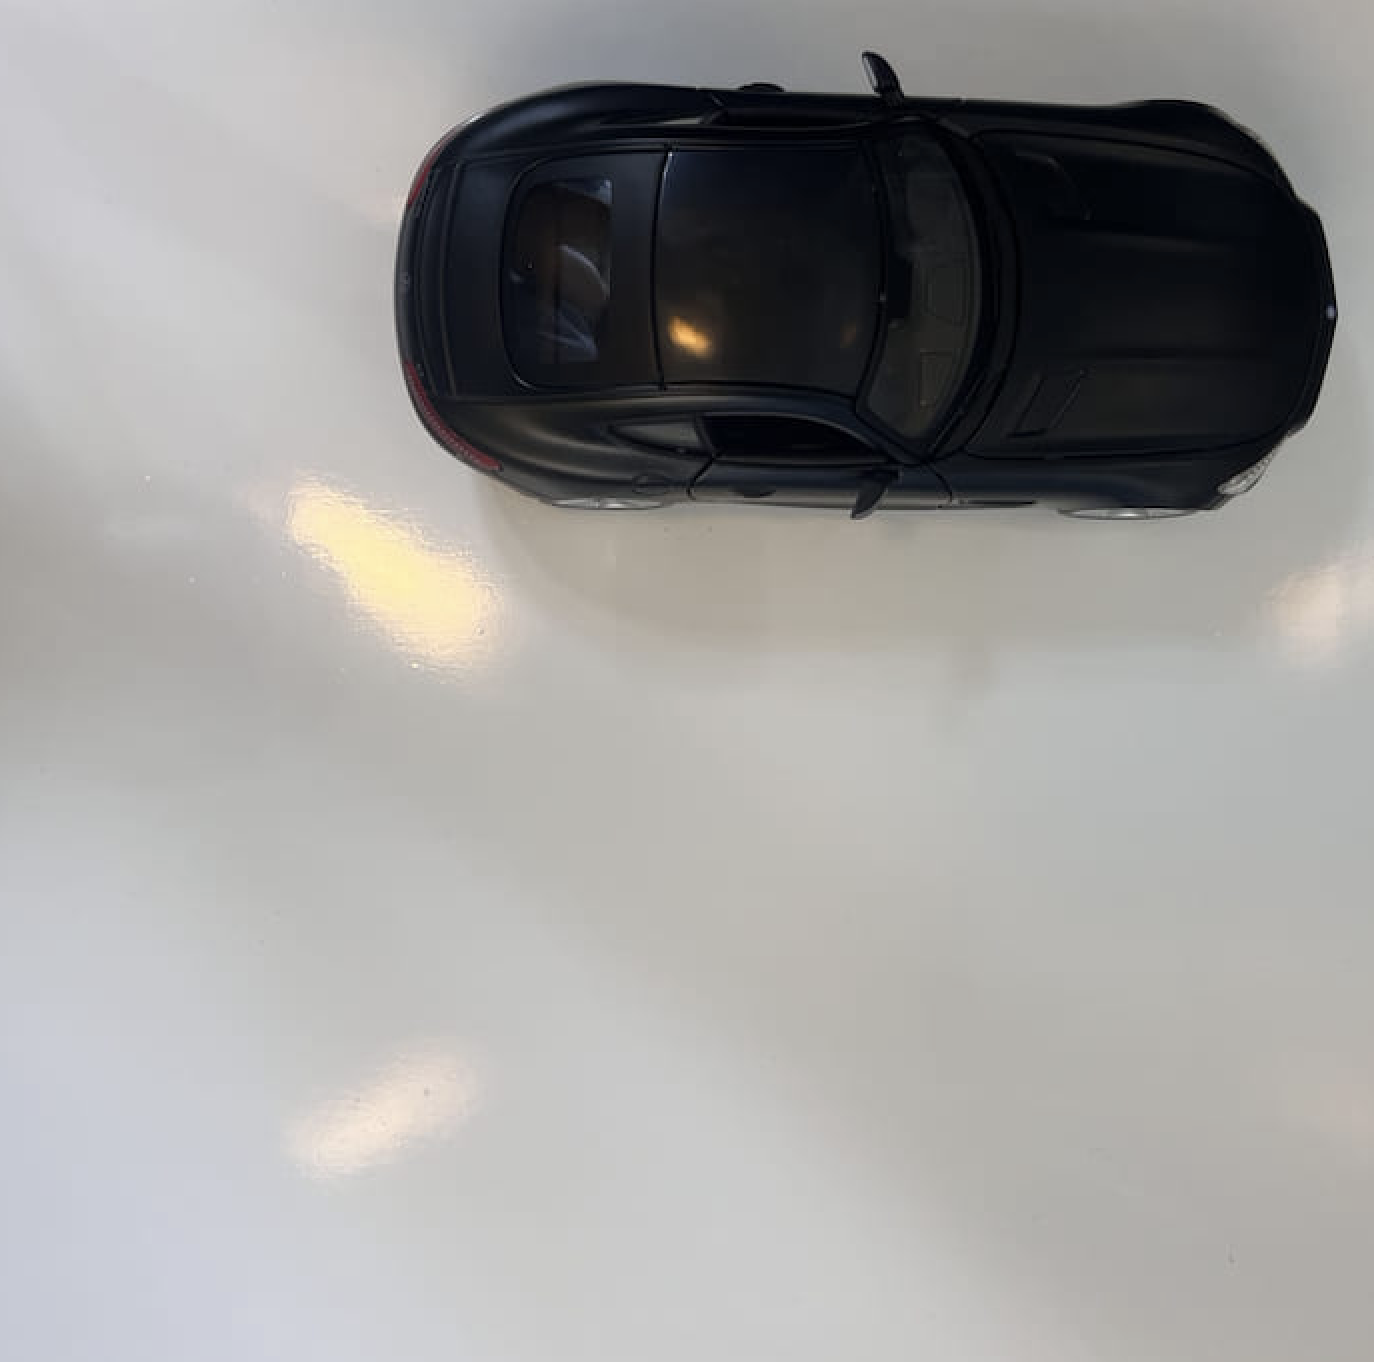car: (396, 52, 1340, 523)
